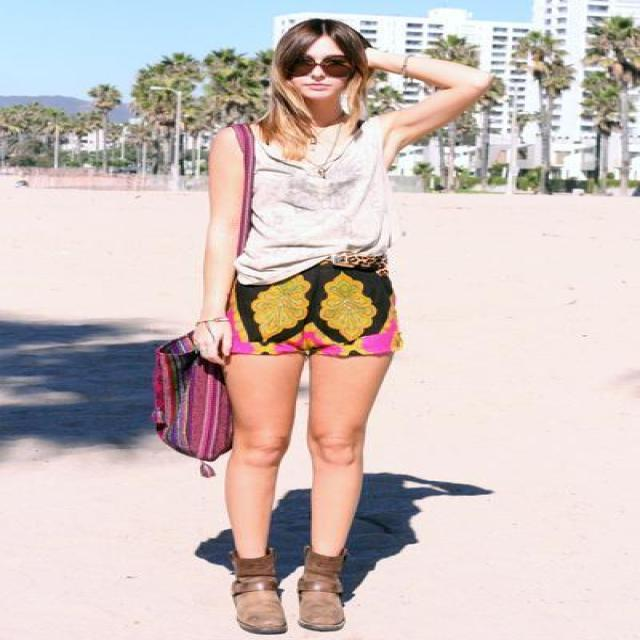bag: (149, 101, 278, 477)
shirt: (234, 116, 402, 283)
shoe: (230, 550, 346, 634)
skirt: (210, 255, 400, 373)
sunglass: (278, 38, 374, 84)
